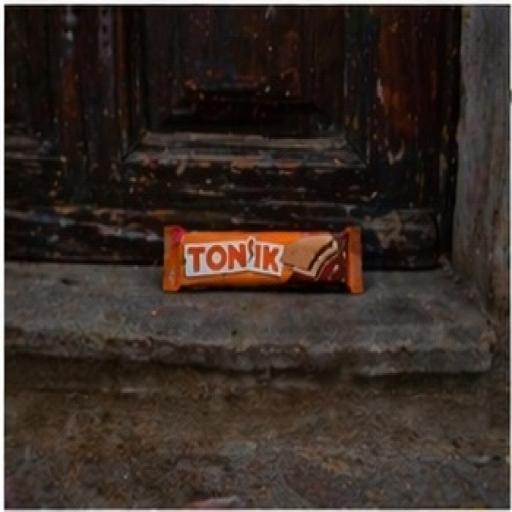tonik: (114, 120, 416, 424)
